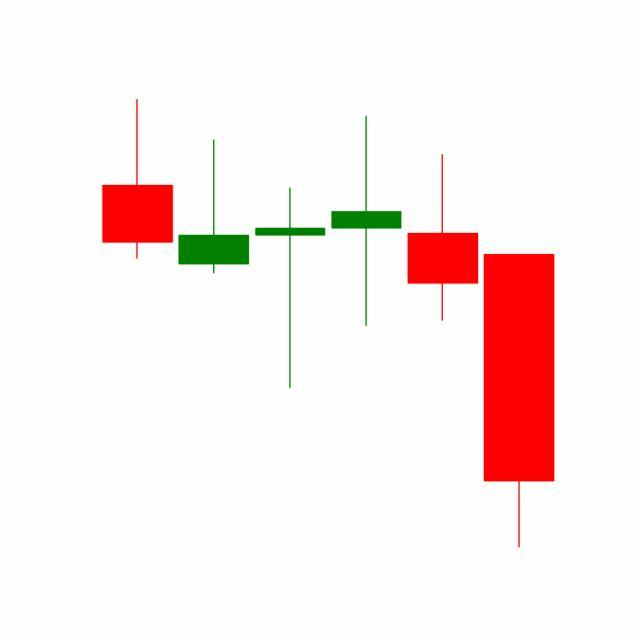Hikkake Pattern: (175, 111, 555, 548)
